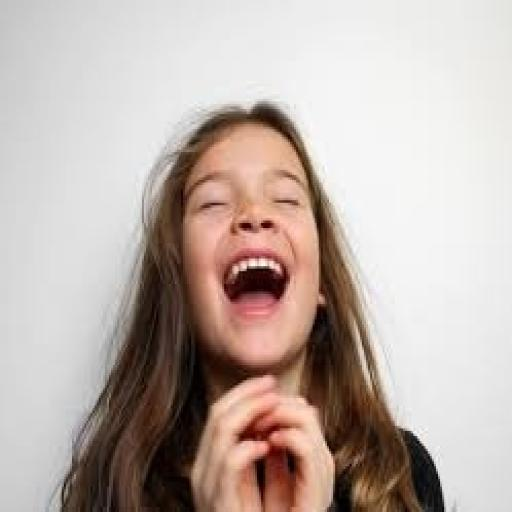laughing: (37, 92, 463, 510)
